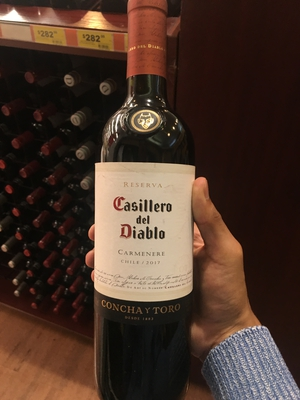casillero del diablo carmenere: (94, 10, 194, 400)
